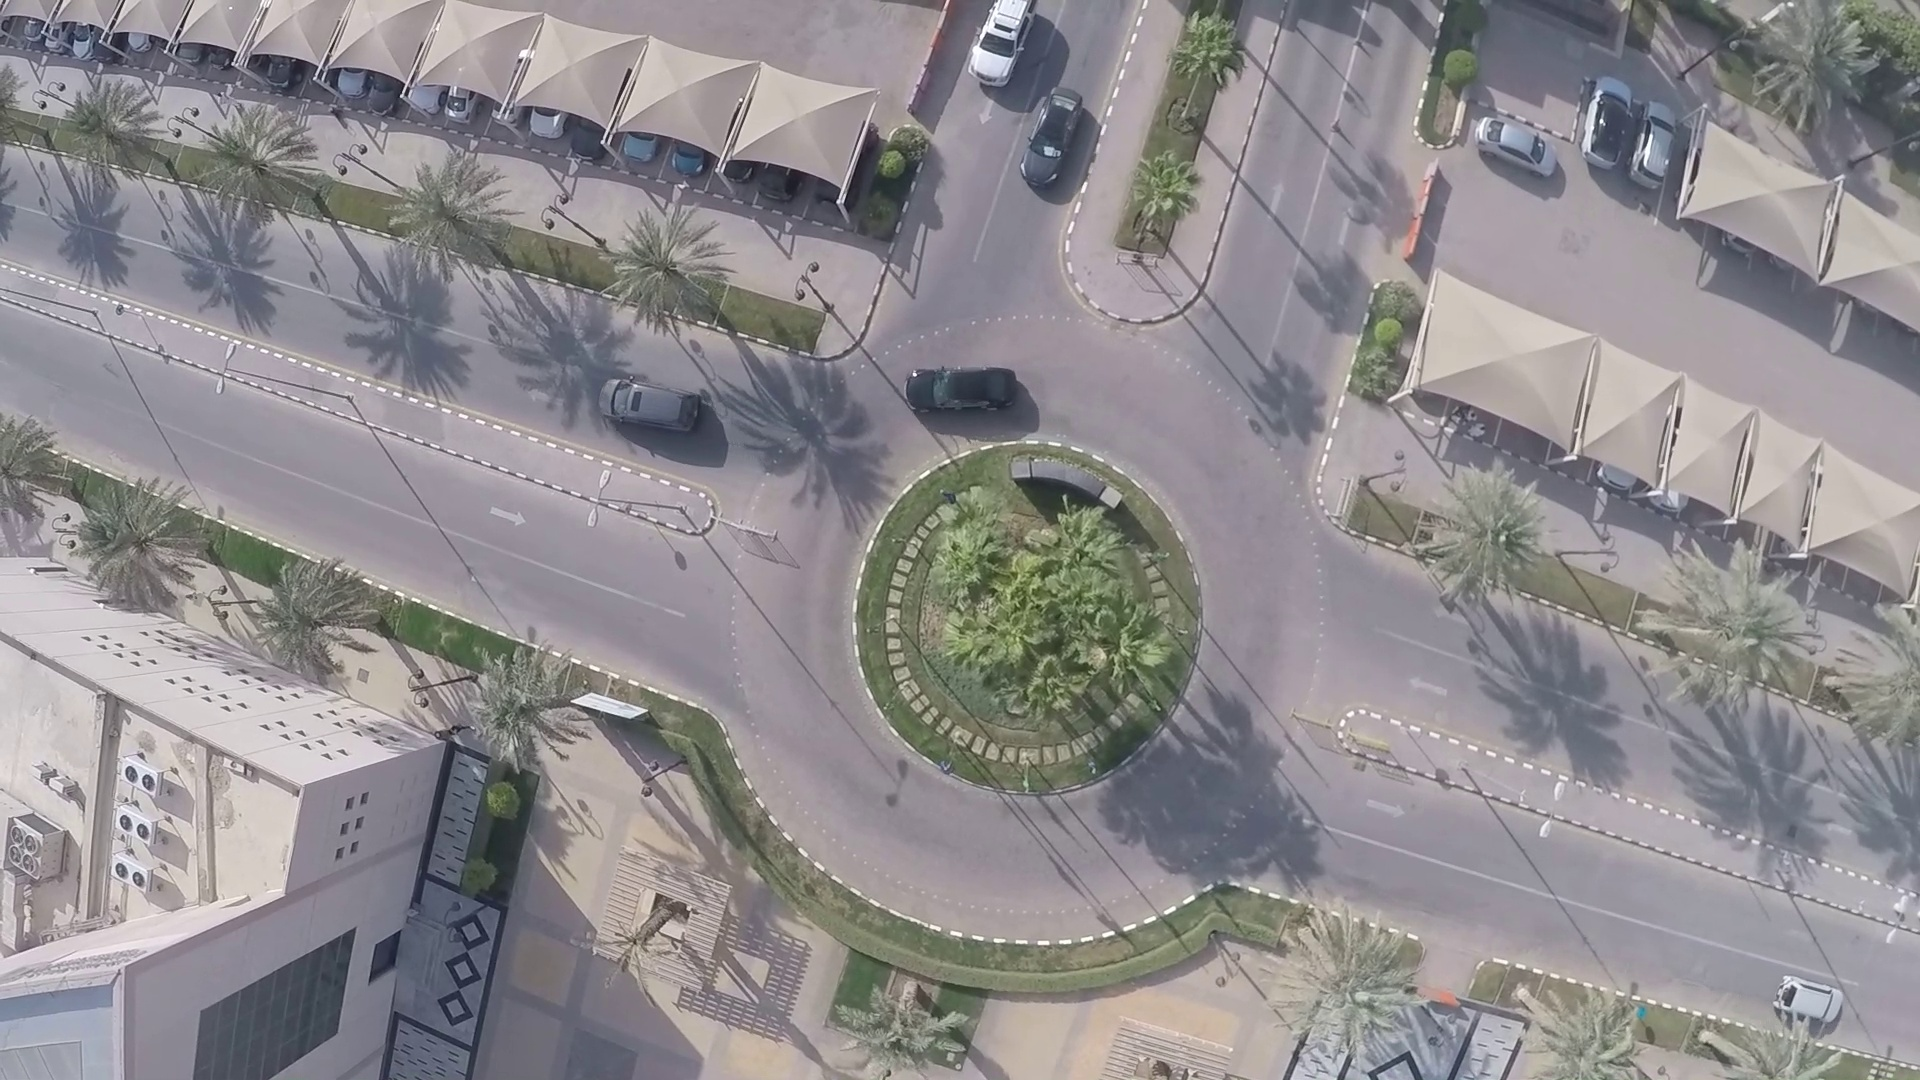car: (884, 349, 1026, 410), (1014, 73, 1081, 200), (589, 378, 709, 434), (971, 1, 1023, 94), (1763, 975, 1853, 1029)
